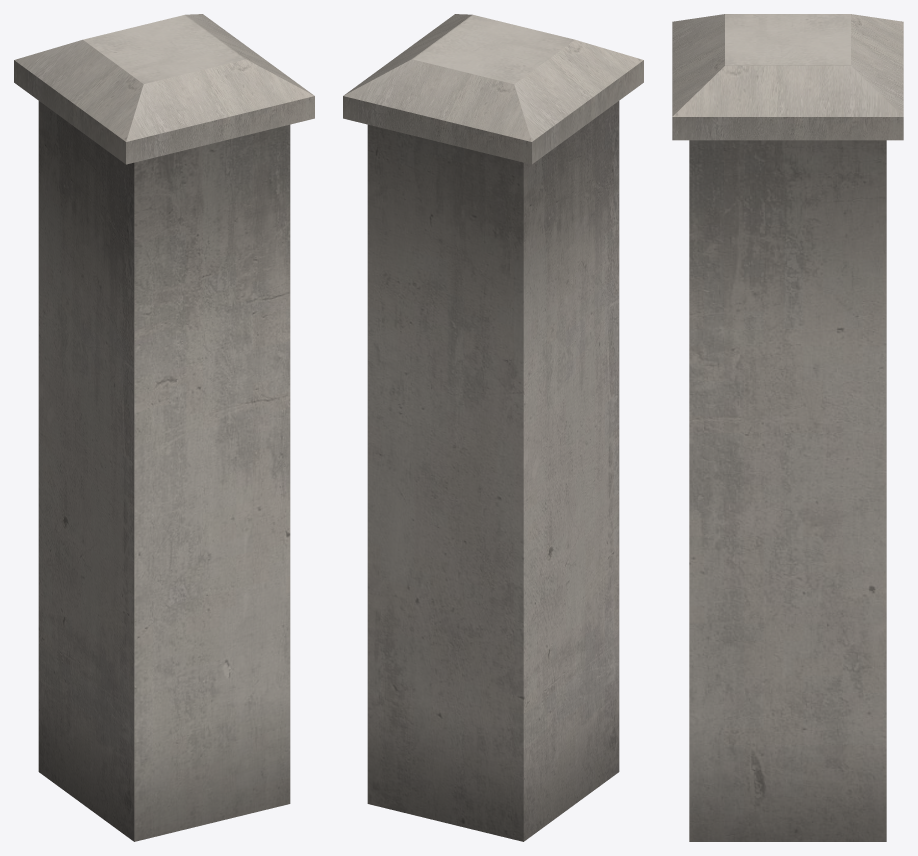
File: weiqiang_02.FBX
3 renders of one model, left to right at view 1: azimuth 30°, elevation 25°; view 2: azimuth 150°, elevation 25°; view 3: azimuth 270°, elevation 25°, orthographic. The views are drawn at different scales.
Parts seen in each view (by area): view 1: weiqiang_02; view 2: weiqiang_02; view 3: weiqiang_02.
Boxes of the visible parts, <box> form: weiqiang_02: <box>14,14,314,841</box>; weiqiang_02: <box>343,14,643,841</box>; weiqiang_02: <box>672,14,903,841</box>.
Bounding box in the file's own units: 117 × 438 × 120.
